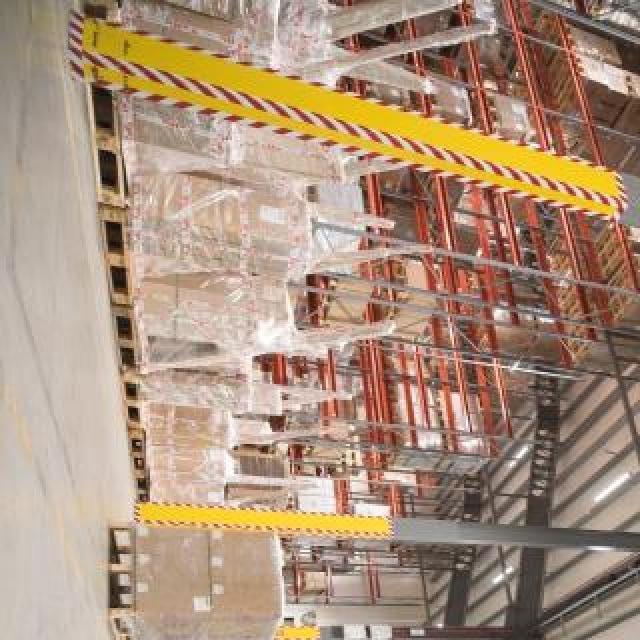fluorescent tube: (580, 444, 640, 518), (491, 427, 544, 475), (484, 557, 538, 595), (602, 626, 640, 640)
